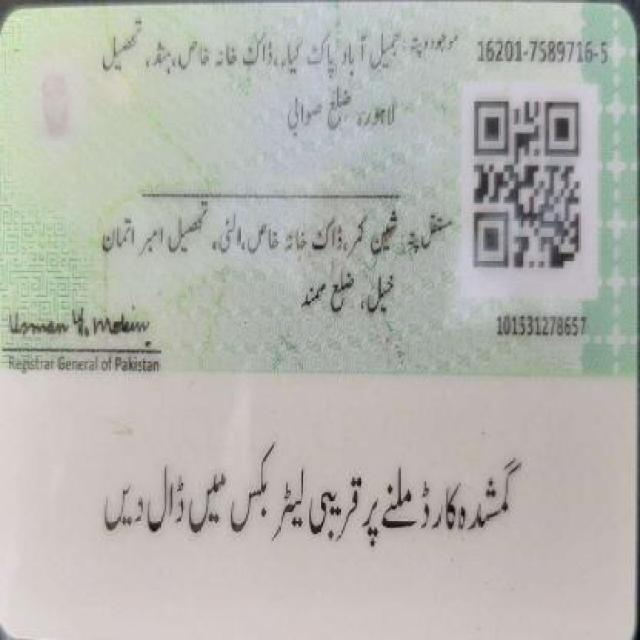Back: (10, 11, 628, 622)
